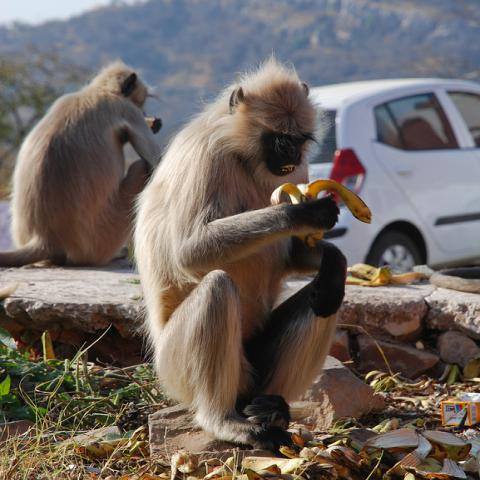car: (305, 76, 479, 276)
